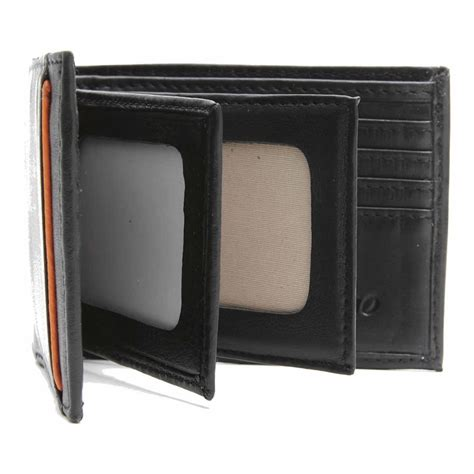cuero: (23, 50, 450, 421)
